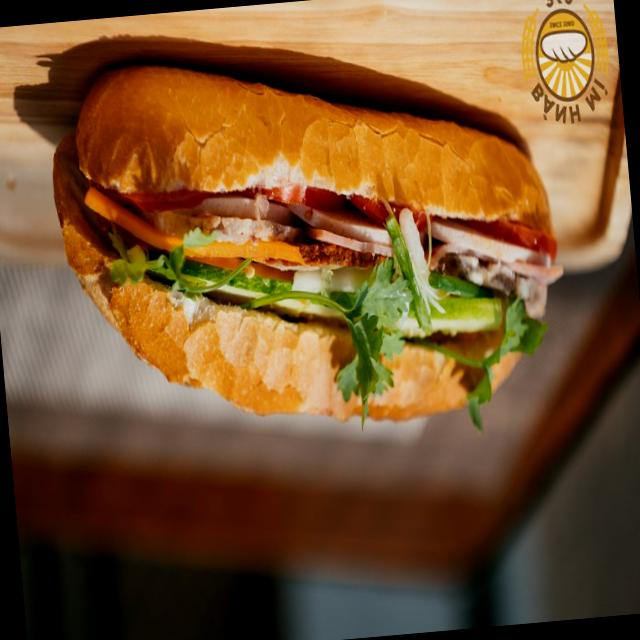banh mi: (52, 66, 561, 424)
